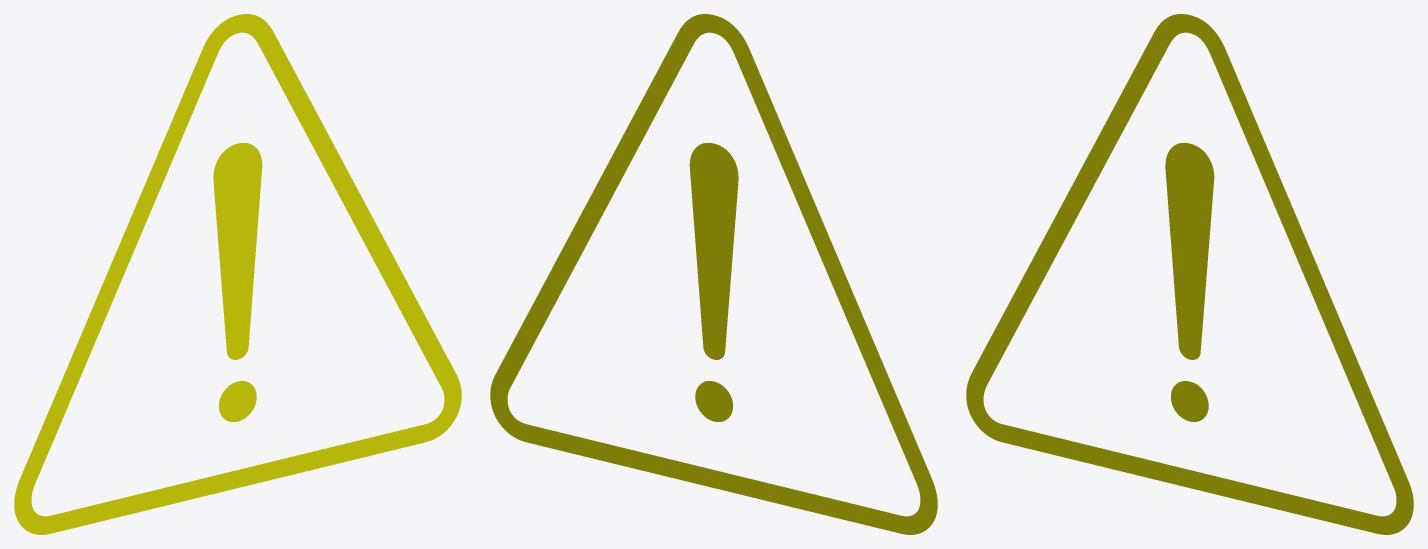
File: warning_sign.glb
3 views of the same model, side by side, from view 1: azimuth 30°, elevation 25°; view 2: azimuth 150°, elevation 25°; view 3: azimuth 330°, elevation 25° (orthographic).
Parts seen in each view (by area): view 1: Text.531_531; view 2: Text.531_531; view 3: Text.531_531.
Part boxes in pixels (x1=…): Text.531_531: x1=14, y1=14, x2=461, y2=534; Text.531_531: x1=490, y1=14, x2=937, y2=534; Text.531_531: x1=966, y1=14, x2=1413, y2=534.
Size of the model in its own units: 1.01 by 1.02 by 3.6e-06.
